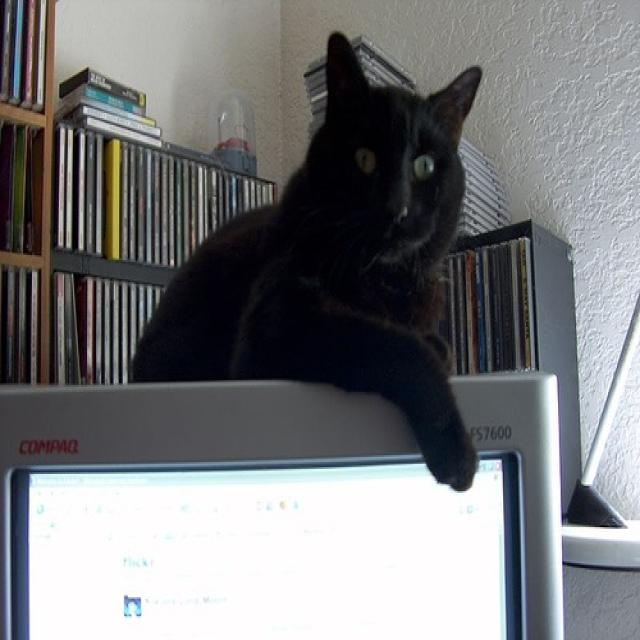cat: (123, 26, 488, 496)
tvmonitor: (0, 383, 563, 637)
